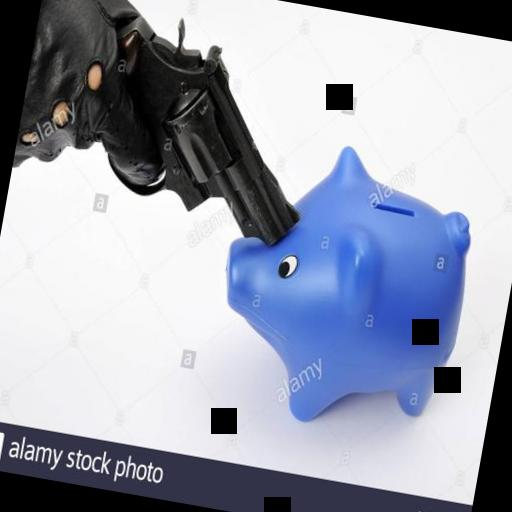Handgun: (37, 0, 335, 256)
